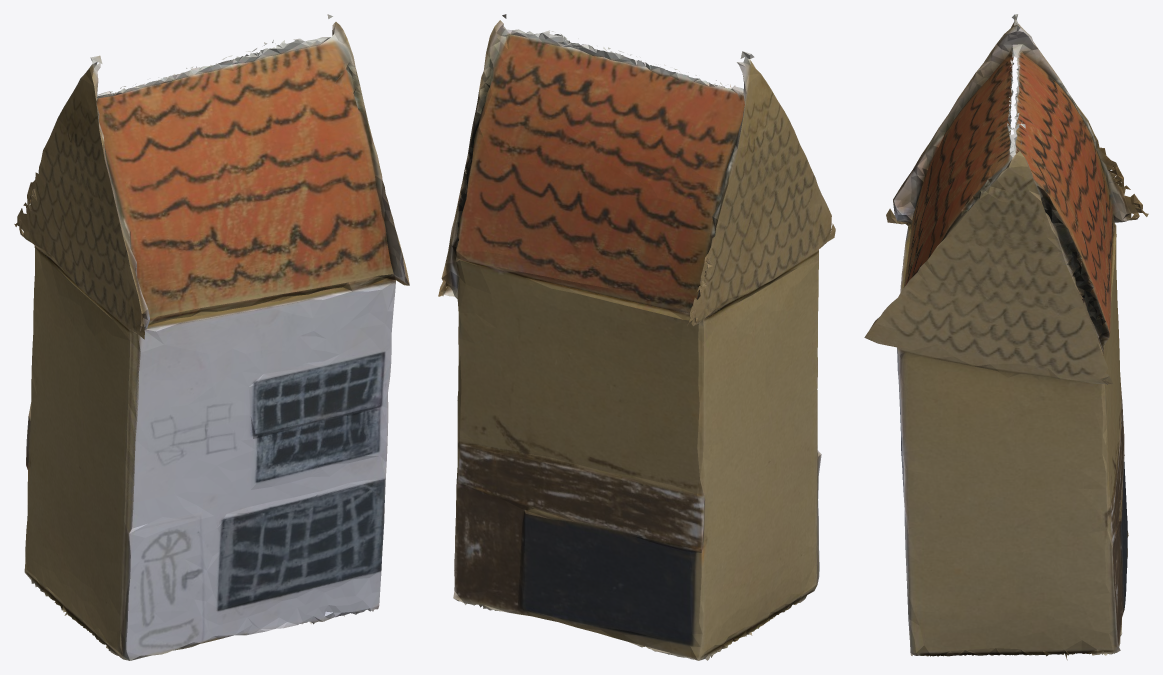
3 renders of one model, left to right at view 1: azimuth 30°, elevation 25°; view 2: azimuth 150°, elevation 25°; view 3: azimuth 270°, elevation 25°, orthographic. The views are drawn at different scales.
Visible parts, largest first — view 1: Object_0; view 2: Object_0; view 3: Object_0.
Boxes of the visible parts, <box> form: Object_0: <box>14,14,409,660</box>; Object_0: <box>438,14,835,660</box>; Object_0: <box>864,14,1148,660</box>.
Bounding box in the file's own units: 9.8 × 19.25 × 9.22.
1 material, 1 textured.
